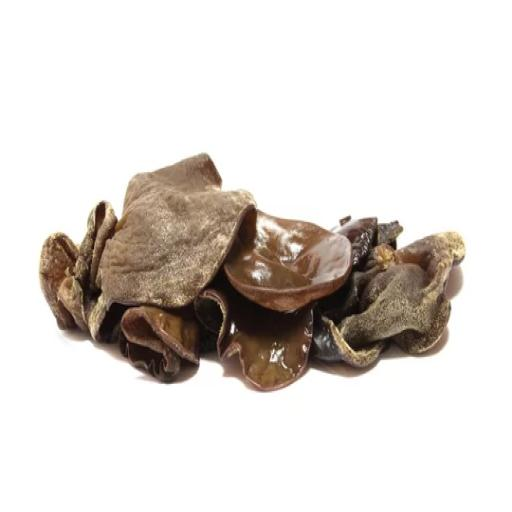Wood Ear Mushroom: (28, 133, 476, 405)
